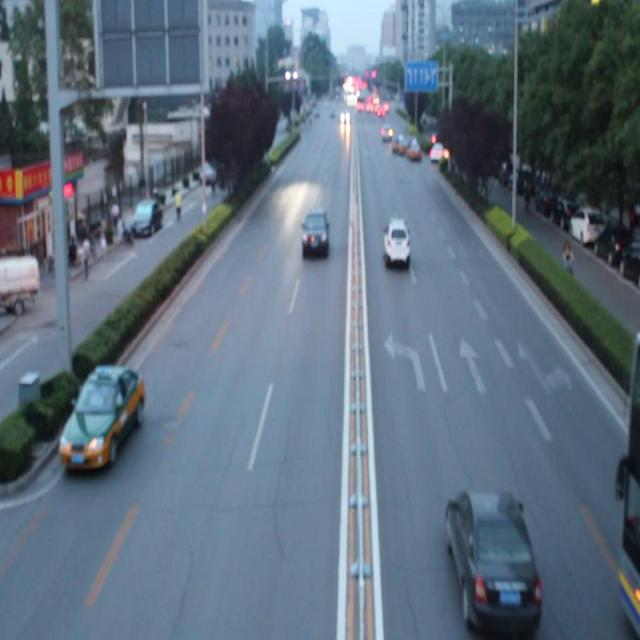car: (444, 478, 542, 622), (58, 362, 147, 470), (382, 214, 411, 266), (301, 206, 330, 256)
